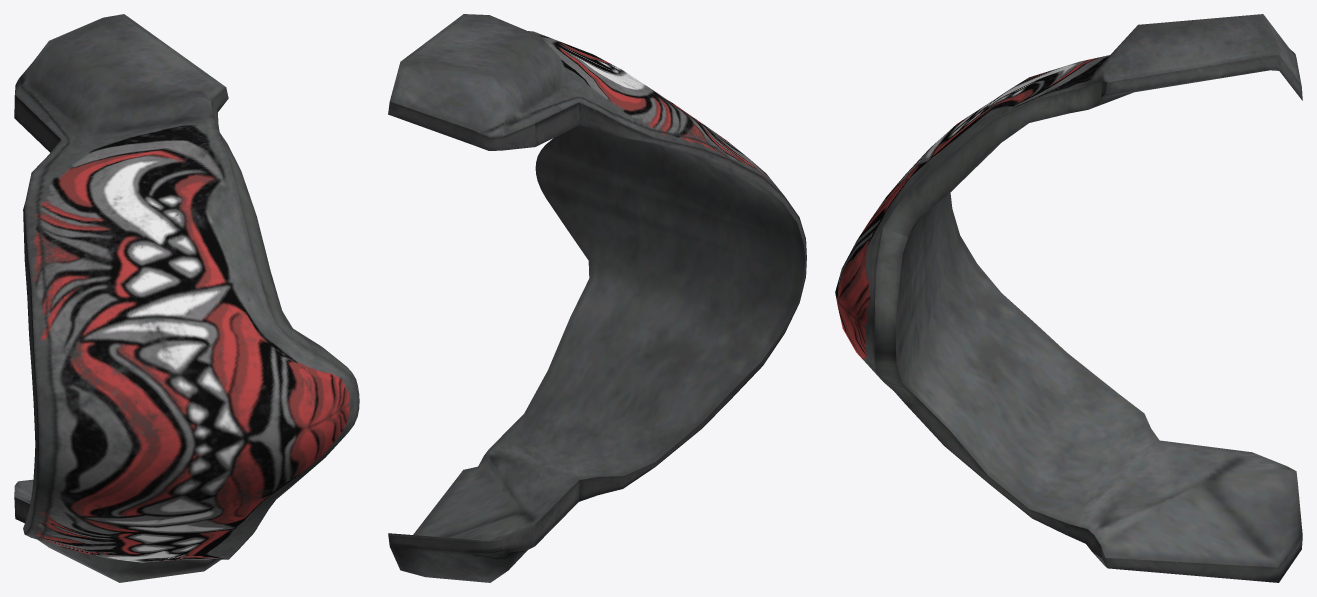
File: F_TaskForceBallisticMask.fbx
The picture shows the model from 3 angles, left to right: view 1: azimuth 30°, elevation 25°; view 2: azimuth 150°, elevation 25°; view 3: azimuth 270°, elevation 25°; orthographic projection. The views are drawn at different scales.
Visible parts, largest first — view 1: Ballistic Mask; view 2: Ballistic Mask; view 3: Ballistic Mask.
Part boxes in pixels (x1=…): Ballistic Mask: x1=14, y1=14, x2=359, y2=582; Ballistic Mask: x1=388, y1=14, x2=806, y2=582; Ballistic Mask: x1=835, y1=14, x2=1302, y2=582.
Size of the model in its own units: 0.0685 by 0.1138 by 0.0903.
